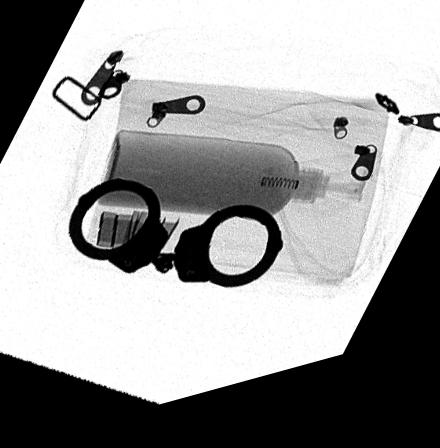HandCuffs: (68, 183, 283, 301)
